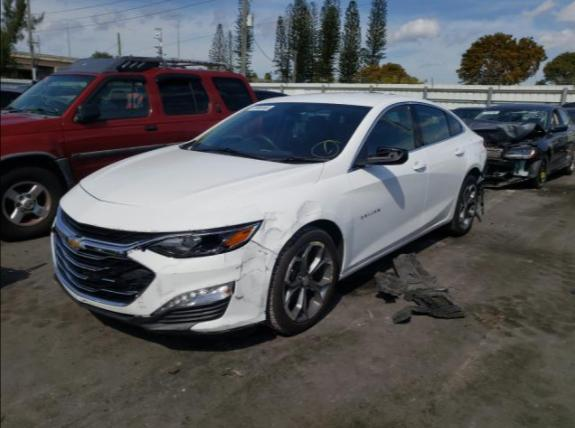Broken part: (50, 216, 155, 313), (124, 221, 262, 258), (348, 143, 409, 172), (474, 154, 487, 222)
Dent: (233, 240, 278, 317), (259, 200, 322, 254), (153, 264, 174, 299), (257, 212, 282, 240), (135, 296, 151, 316)
Scratch: (236, 257, 254, 268), (235, 270, 254, 280), (257, 265, 268, 273), (234, 294, 244, 300), (257, 250, 267, 254), (240, 260, 242, 279), (224, 253, 226, 264)
